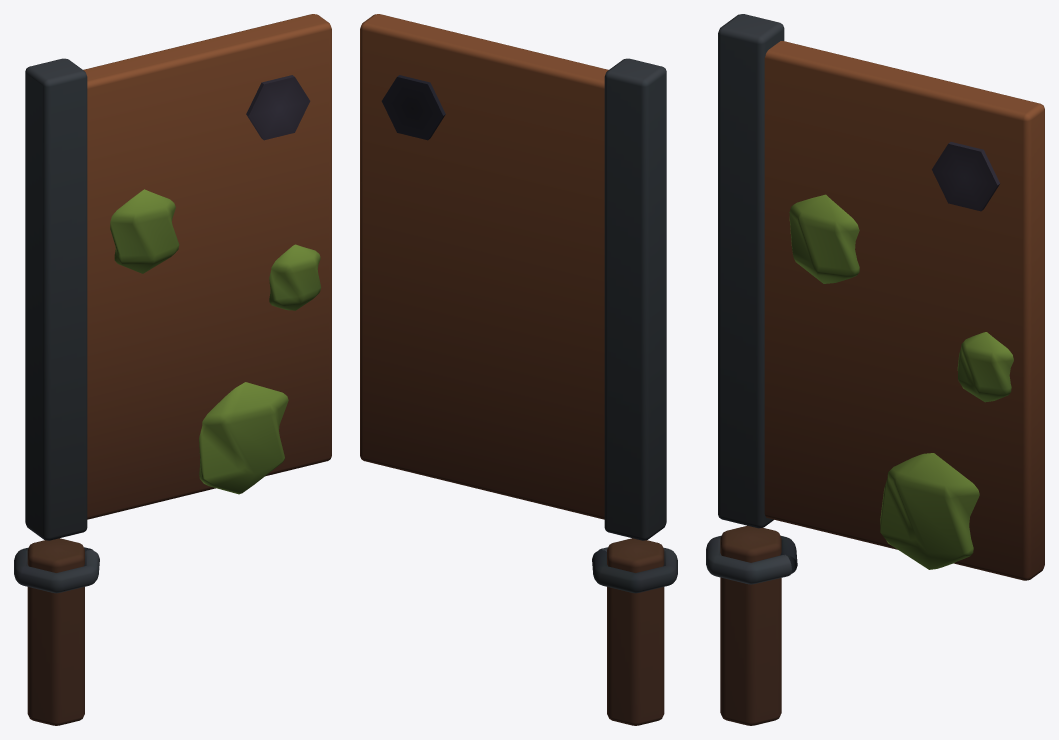
The model's file is lg_bogiron_cleaver.glb.
3 renders of one model, left to right at view 1: azimuth 30°, elevation 25°; view 2: azimuth 150°, elevation 25°; view 3: azimuth 330°, elevation 25°, orthographic. The views are drawn at different scales.
Parts seen in each view (by area): view 1: lg_bogiron_cleaver, lg_bogiron_cleaver_trim; view 2: lg_bogiron_cleaver, lg_bogiron_cleaver_trim; view 3: lg_bogiron_cleaver, lg_bogiron_cleaver_trim.
Boxes of the visible parts, bbox=[...] form: lg_bogiron_cleaver: bbox=[14, 14, 331, 725]; lg_bogiron_cleaver_trim: bbox=[246, 75, 310, 140]; lg_bogiron_cleaver: bbox=[360, 14, 677, 725]; lg_bogiron_cleaver_trim: bbox=[381, 75, 445, 140]; lg_bogiron_cleaver: bbox=[706, 14, 1044, 725]; lg_bogiron_cleaver_trim: bbox=[932, 142, 1000, 211].
Bounding box in the file's own units: 0.7016 × 1.4 × 0.1657.
